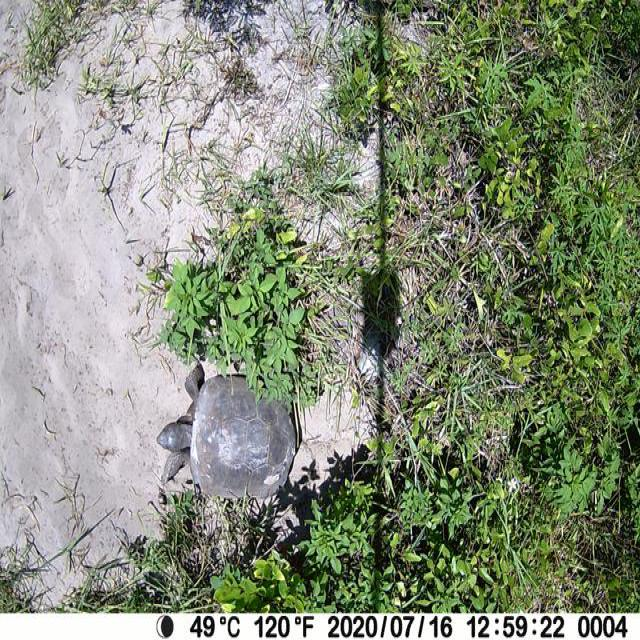tortoise: (154, 360, 299, 499)
